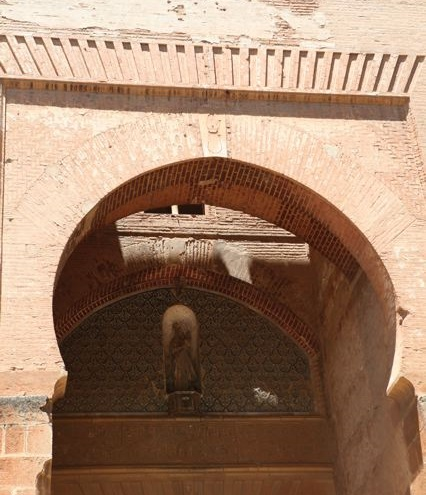arco-herradura: (36, 145, 426, 413)
dintel-adovelado: (1, 27, 426, 110)
